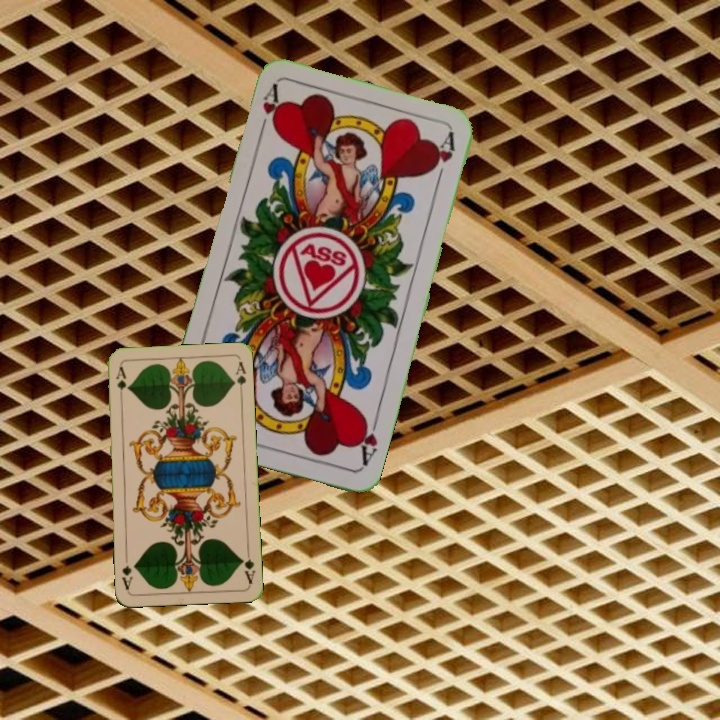GA: (238, 545, 258, 586), (112, 362, 128, 403)
HA: (352, 411, 382, 469), (254, 81, 284, 139)
